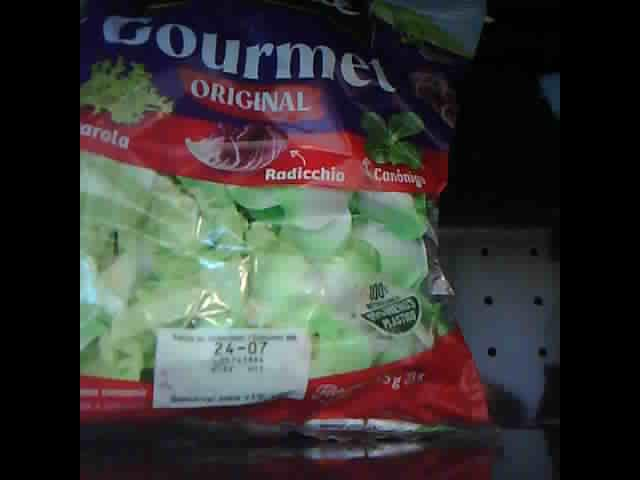florette: (82, 1, 494, 444)
